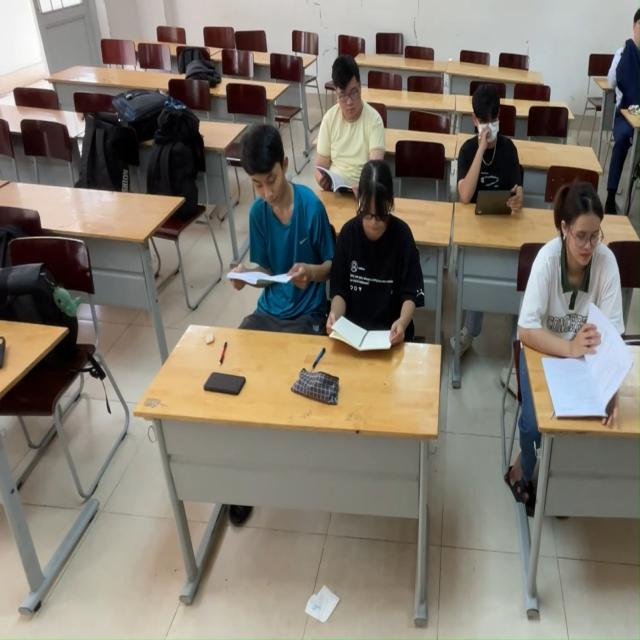read: (543, 177, 640, 424), (231, 130, 318, 351), (340, 162, 417, 366), (448, 74, 535, 218), (319, 61, 385, 191)
